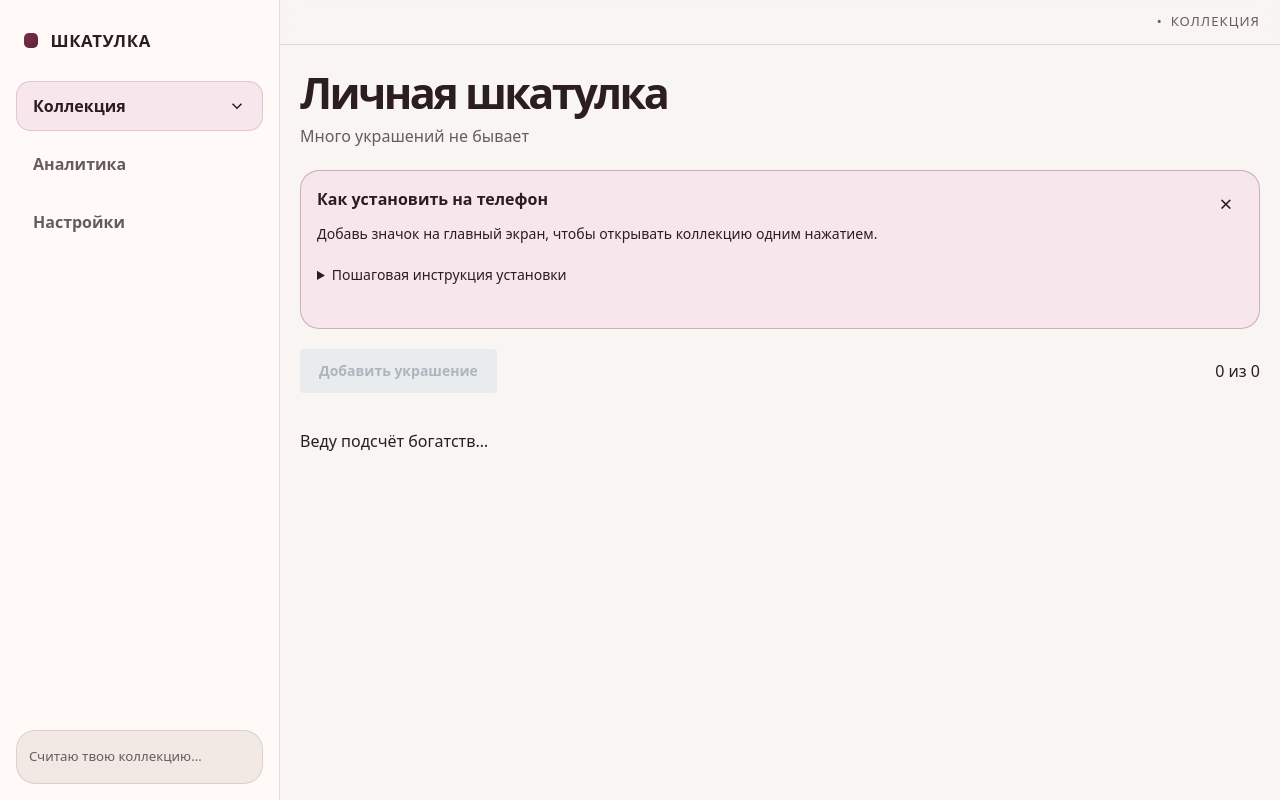
it: foundation app › keeps installation instructions available in settings after dismissal
Click the button named "Скрыть инструкцию установки" at coordinates (1226, 204), box [1204, 182, 1248, 226]
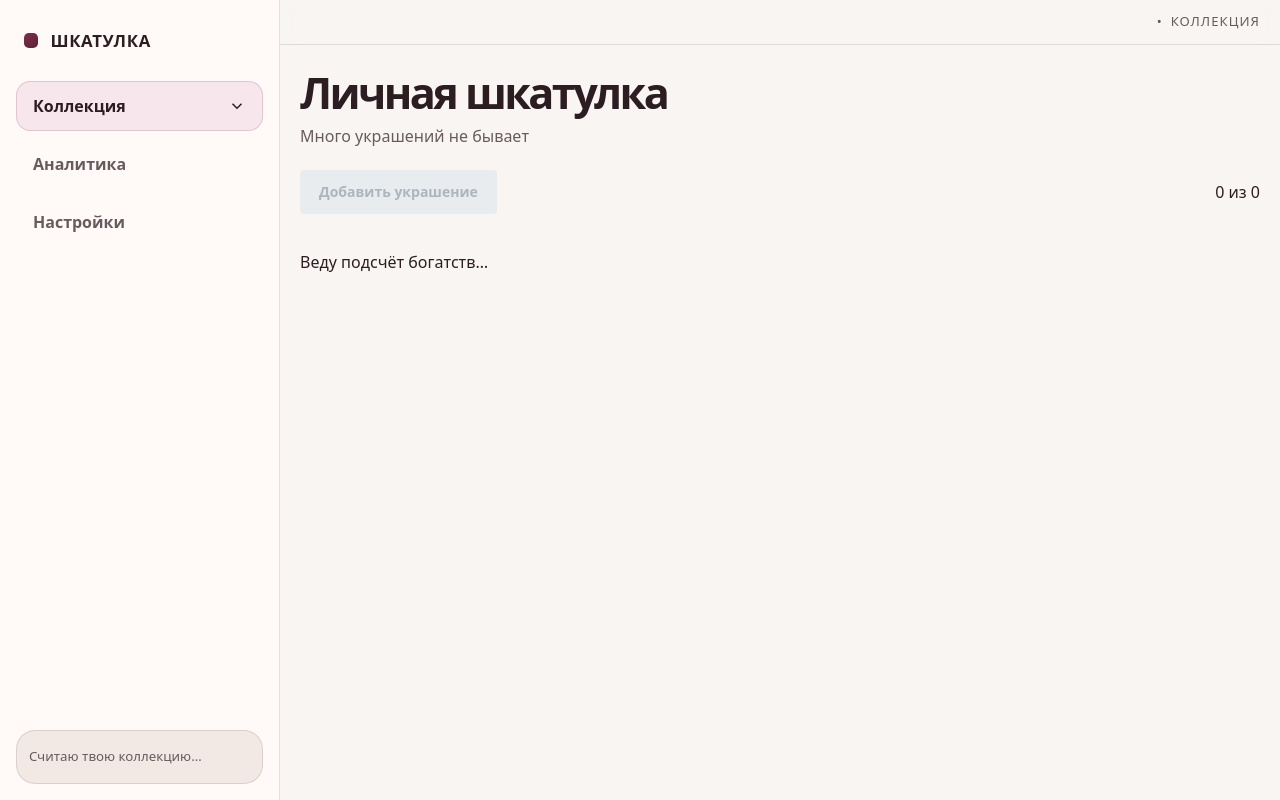
Expected: the heading "Как установить на телефон" is gone
Click the button "Настройки" at coordinates (140, 222), box [16, 197, 263, 247]
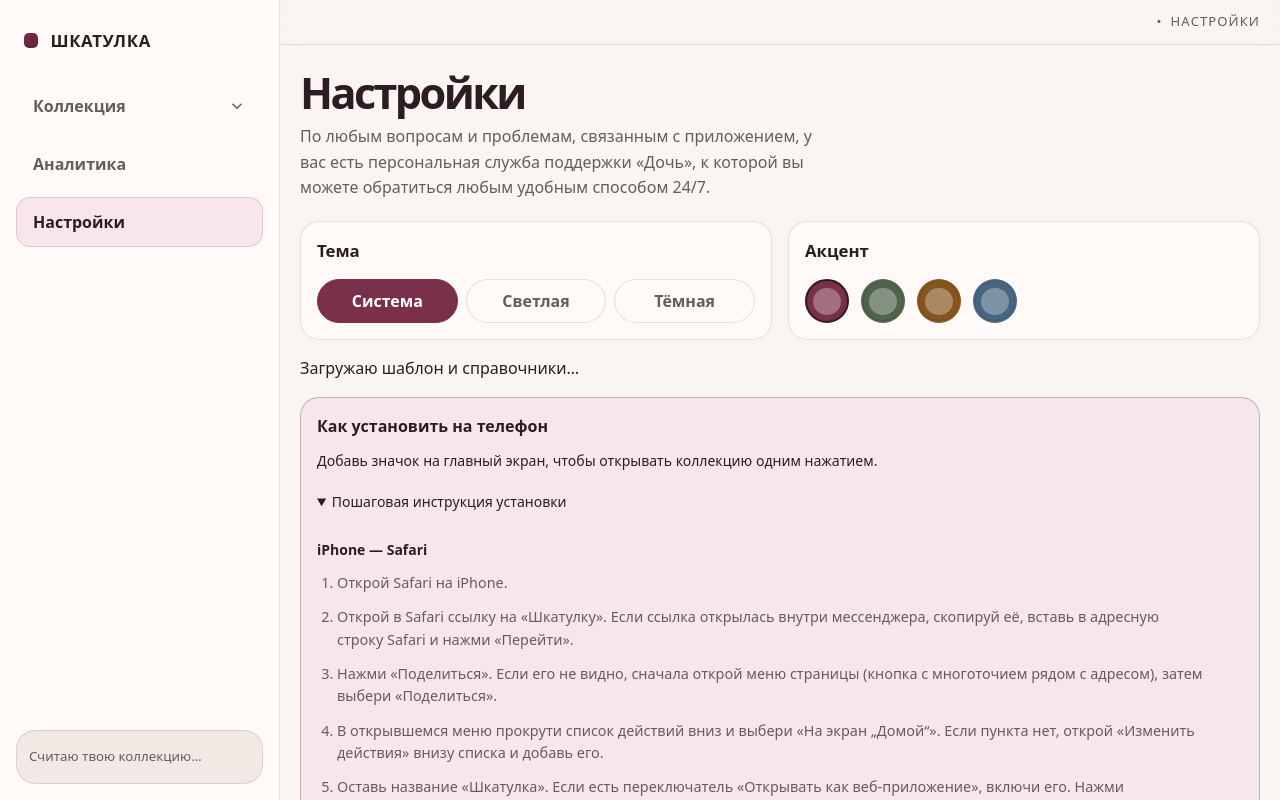
Expected: the heading "Настройки" is shown, [300, 63, 525, 122]
Expected: the heading "Как установить на телефон" is shown, [317, 415, 548, 437]
Click the button "Коллекция" at coordinates (140, 106), box [16, 81, 263, 131]
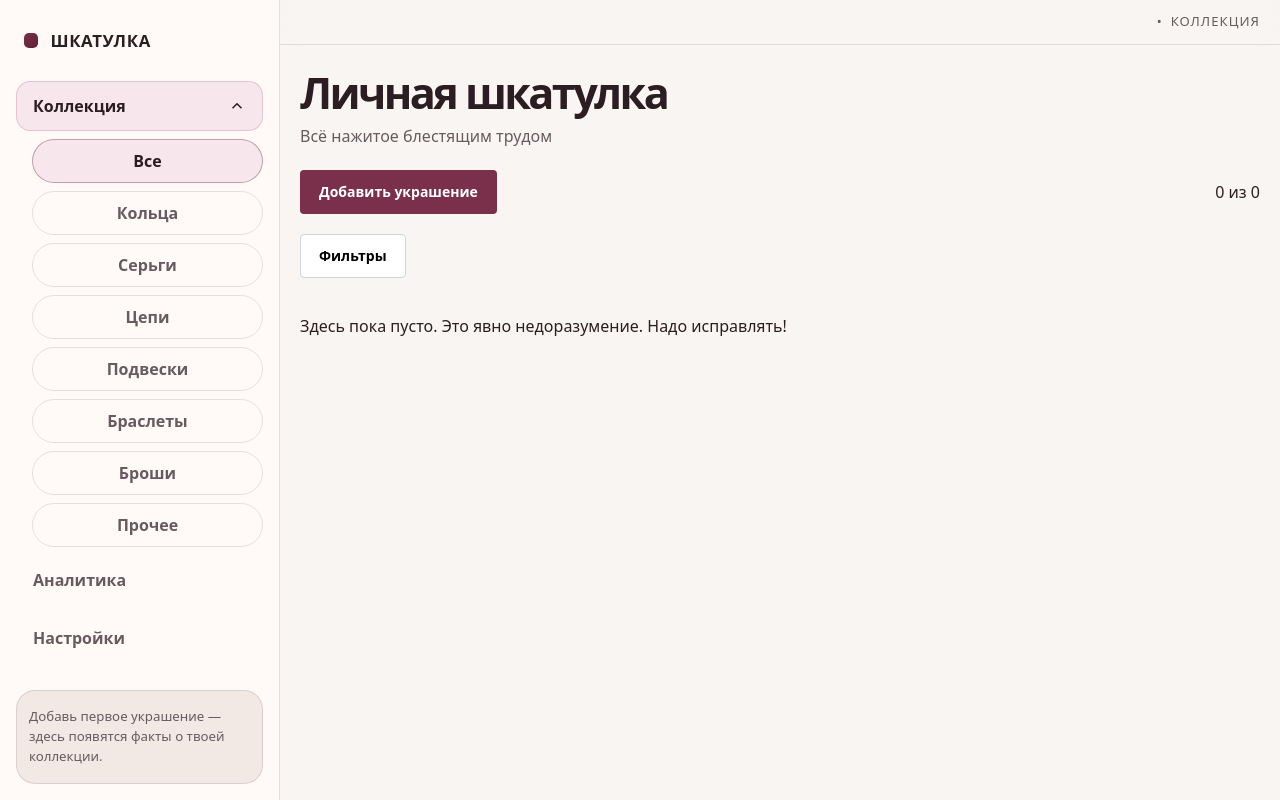
Expected: the heading "Личная шкатулка" is shown, [300, 63, 667, 122]
Expected: the heading "Как установить на телефон" is gone
